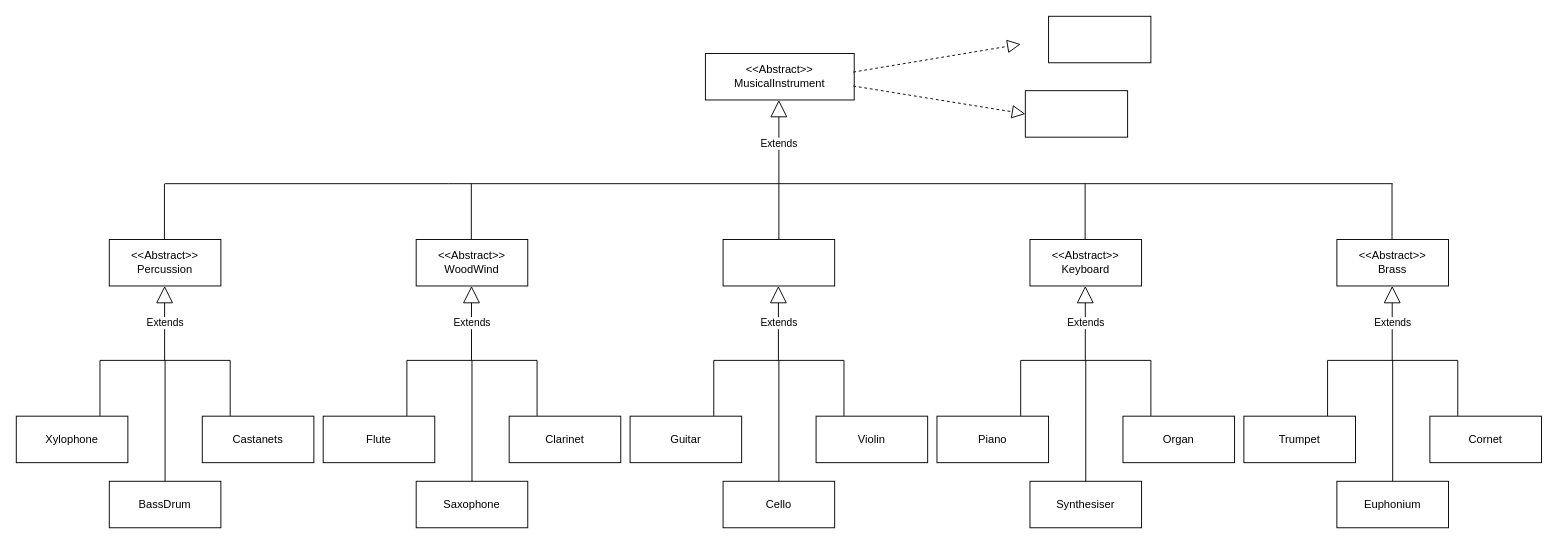
The diagram is 1558 pixels wide and 544 high, and some of its shapes have lost their labels. The centre of each missing label's shape, as x and y in pixels:
<<Abstract>> StringInst: [778,262]
<<interface>> Play: [1099,39]
<<interface>> Tune: [1076,113]
